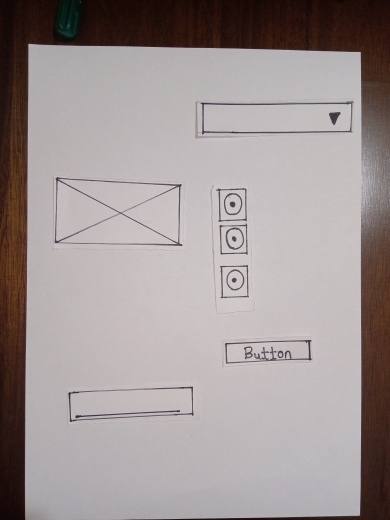button: (228, 342, 312, 363)
dropdown: (195, 99, 351, 139)
img: (54, 176, 188, 253)
radio: (213, 223, 249, 254), (217, 187, 248, 220), (221, 263, 252, 296)
text: (68, 391, 191, 416)
